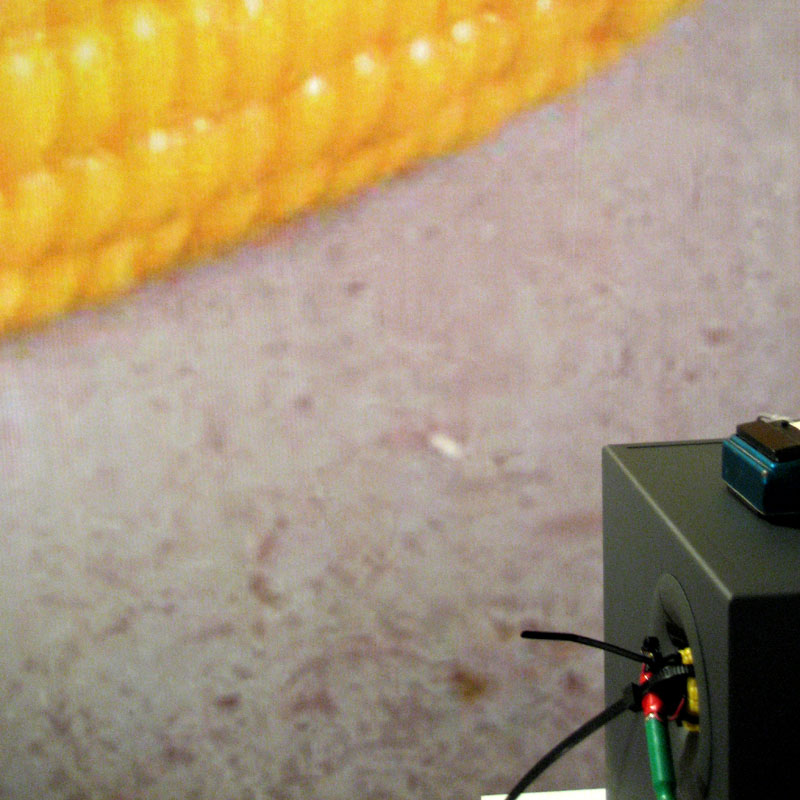corn: (0, 0, 710, 340)
